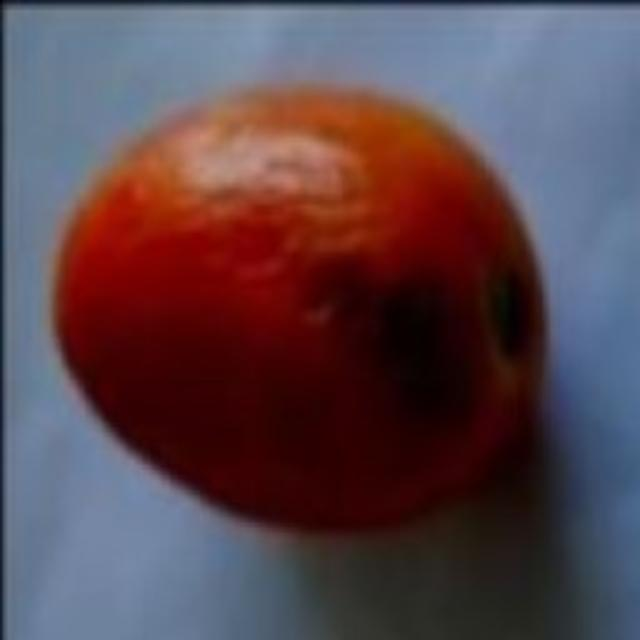defect: (46, 71, 569, 550)
